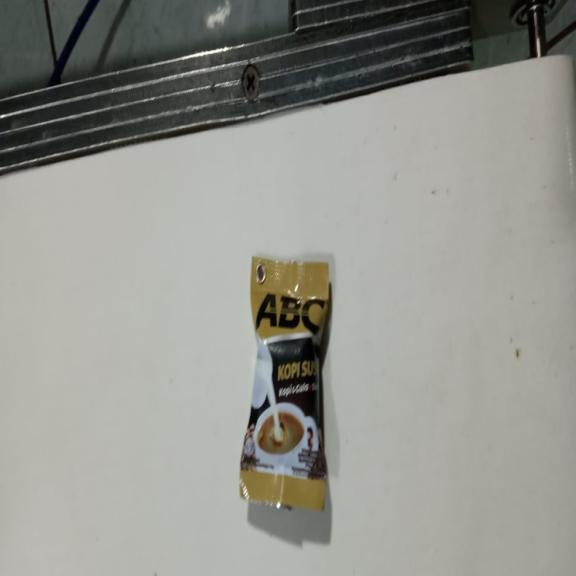Plastik: (240, 252, 330, 511)
